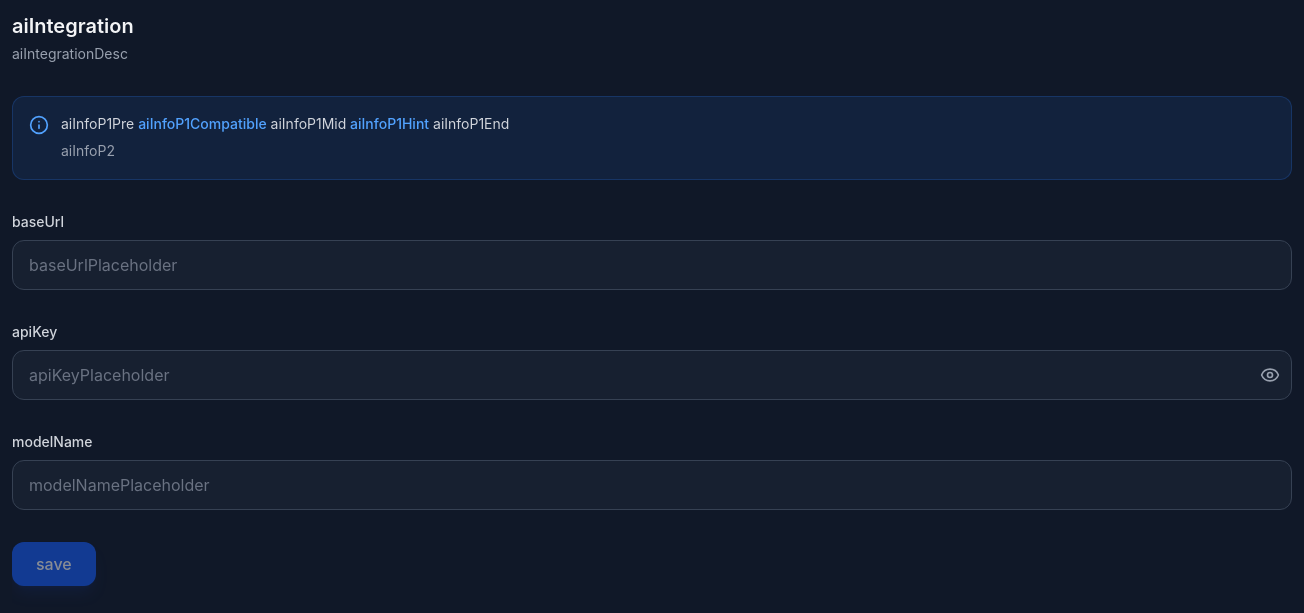
AIIntegrationSettings — save flow › Save button disabled until all three fields are filled
Expected: the button "save" is disabled, [12,542,96,586]
Type "https://api.example.com" into the field labelled "baseUrl" at (652, 264), box [12,240,1292,290]
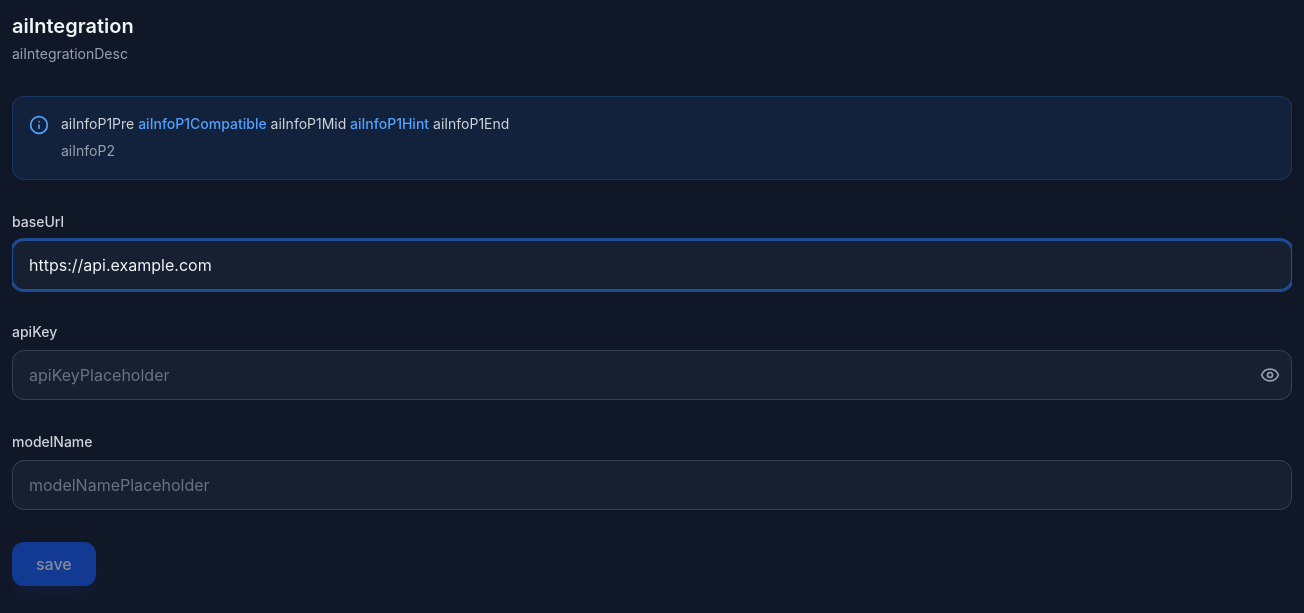
Expected: the button "save" is disabled, [12,542,96,586]
Type "sk-123" into the password field labelled "apiKey" at (652, 374), box [12,350,1292,400]
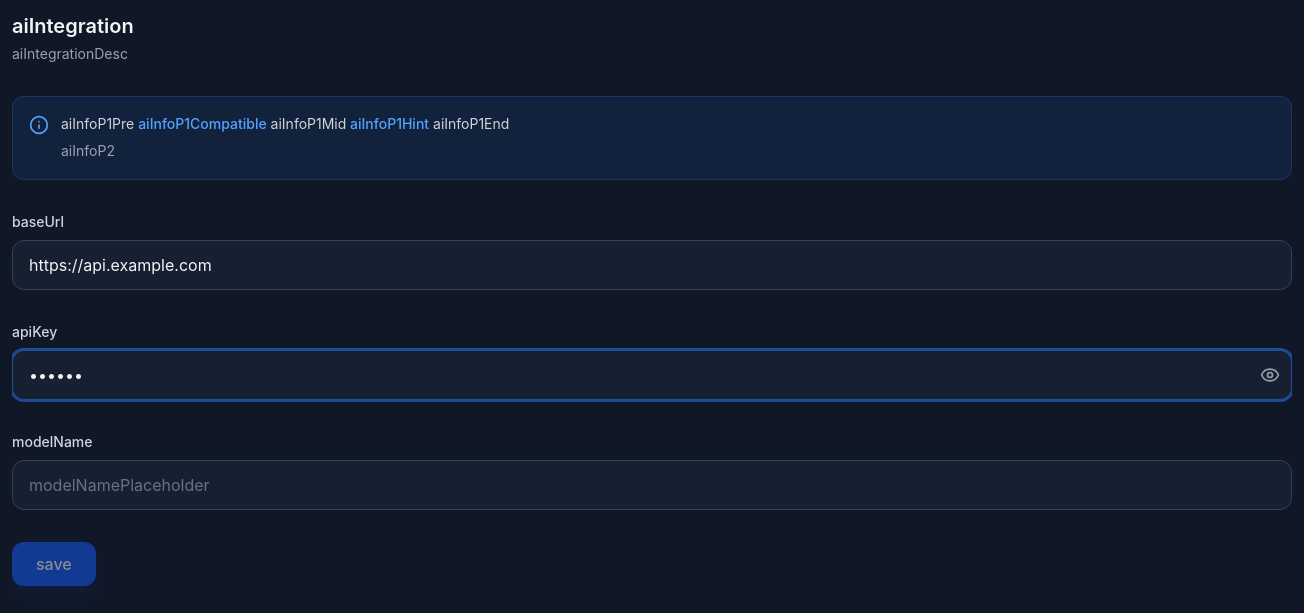
Expected: the button "save" is disabled, [12,542,96,586]
Type "gpt-4" into the field labelled "modelName" at (652, 484), box [12,460,1292,510]
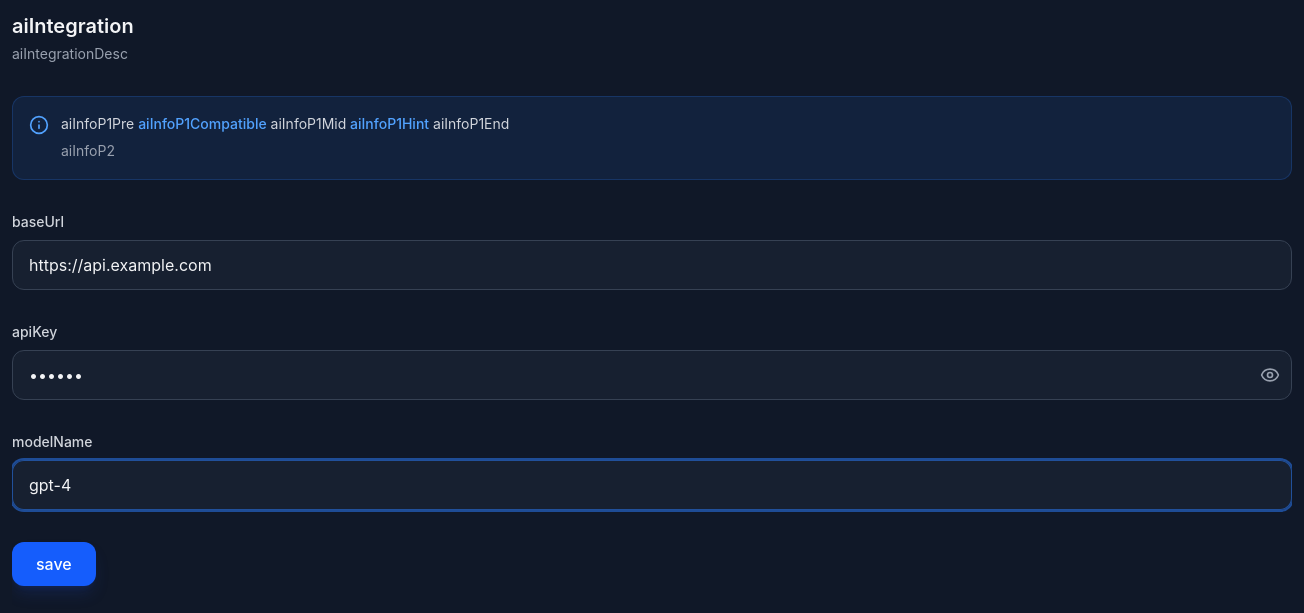
Now the button "save" is enabled, box [12,542,96,586]
